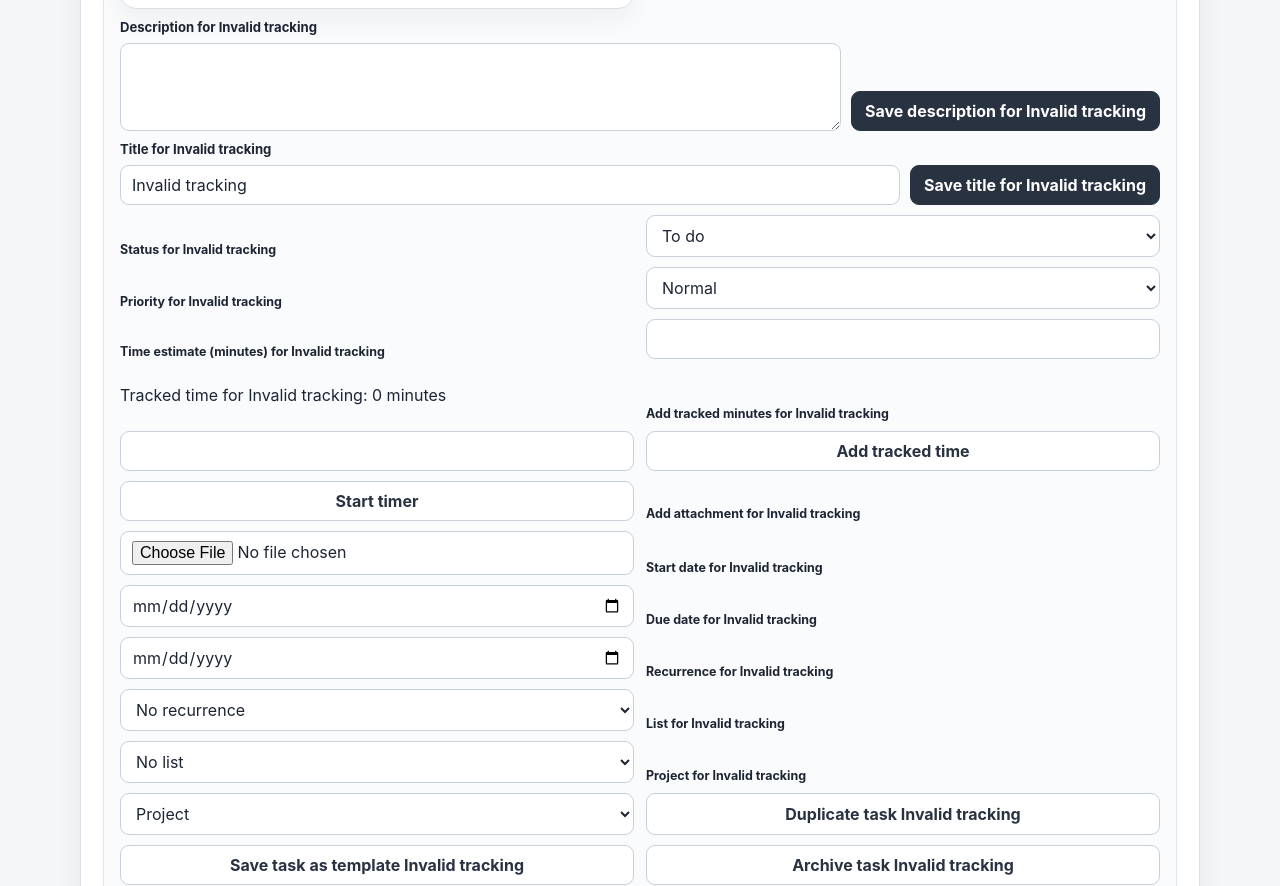
Test: BrowserApp Task time tracking › shows an error and keeps persisted state unchanged for invalid manual minutes
(page scrolled)
Type "0" into the number field labelled "Add tracked minutes for Invalid tracking".
click(377, 451); type("0")  # box [120,431,634,471]
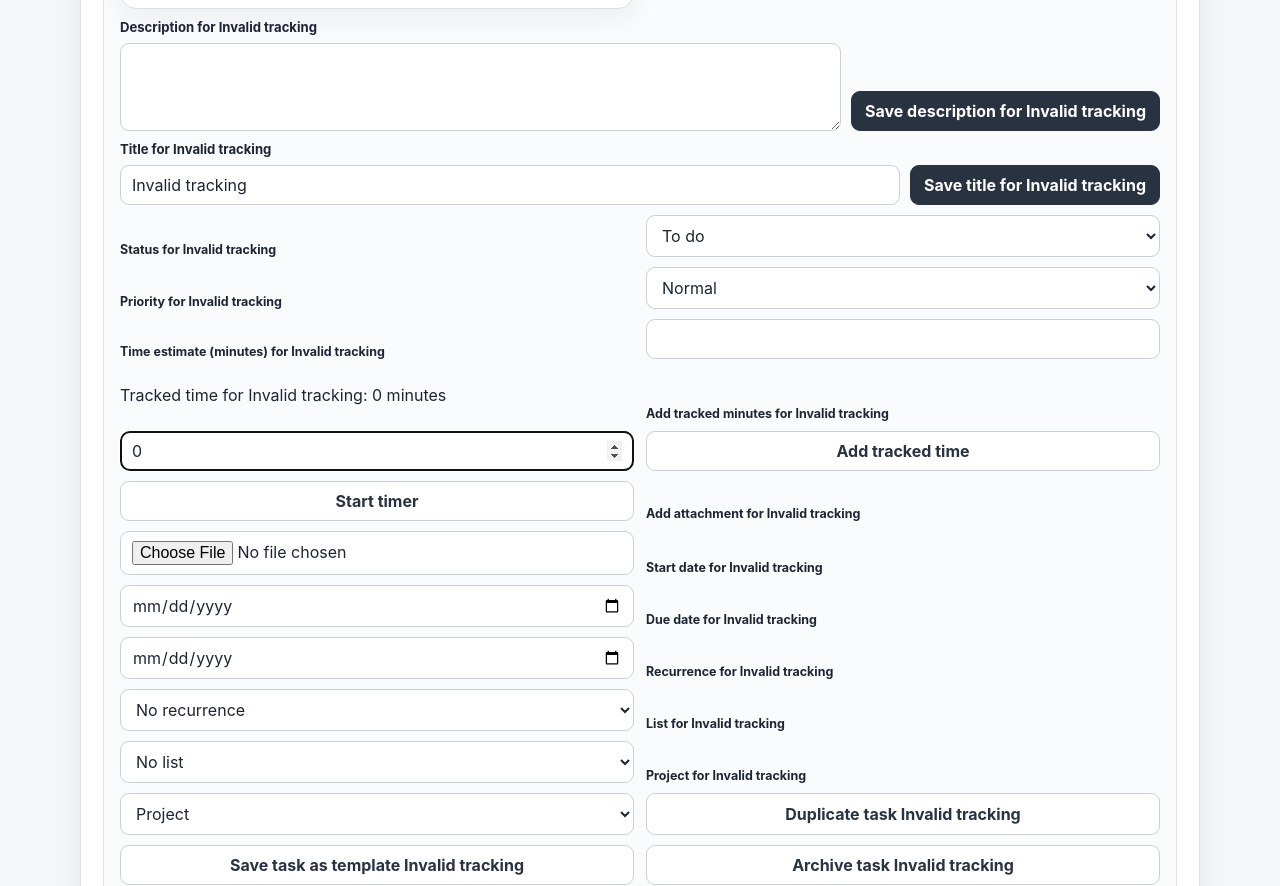
Click the button with aria-label "Add tracked time for Invalid tracking".
click(903, 451)  # box [646,431,1160,471]
(page scrolled)
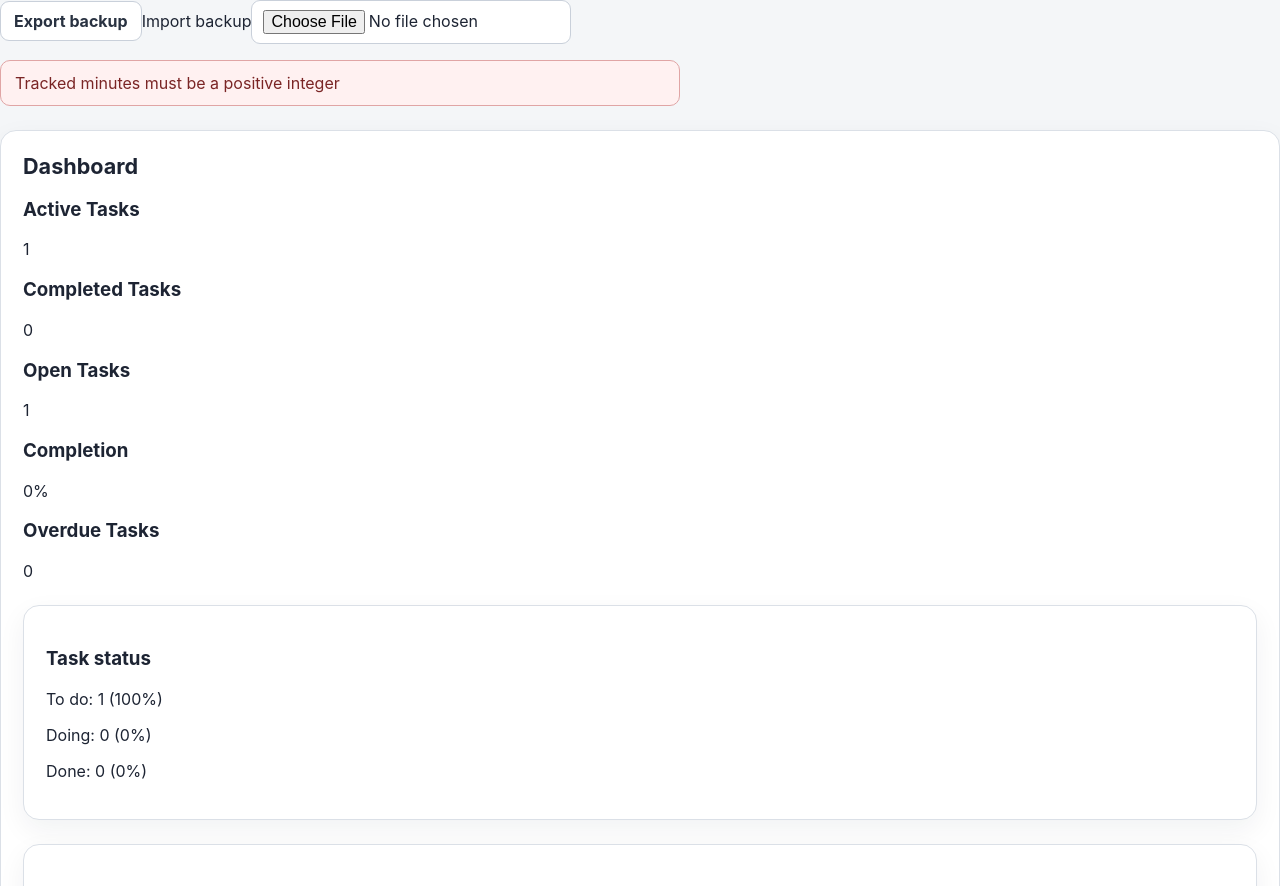
Check: the message reads "Tracked minutes must be a positive integer", box [15,73,340,93]
